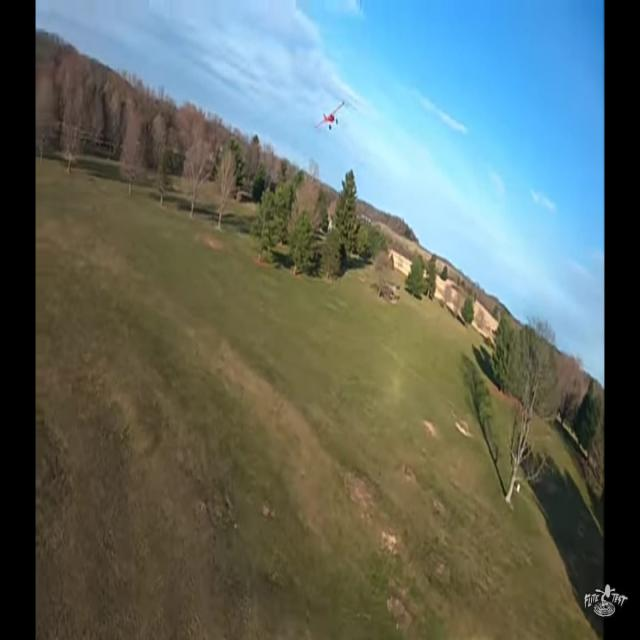iha: (308, 36, 338, 67)
